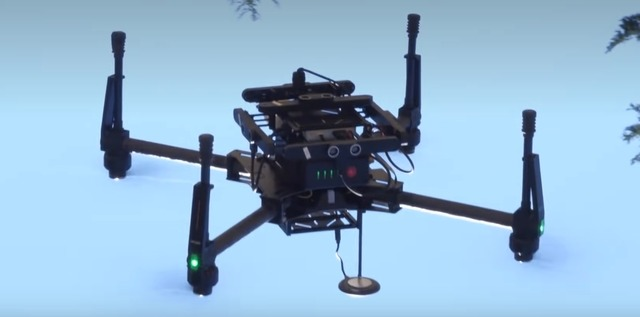drone: (100, 14, 546, 298)
